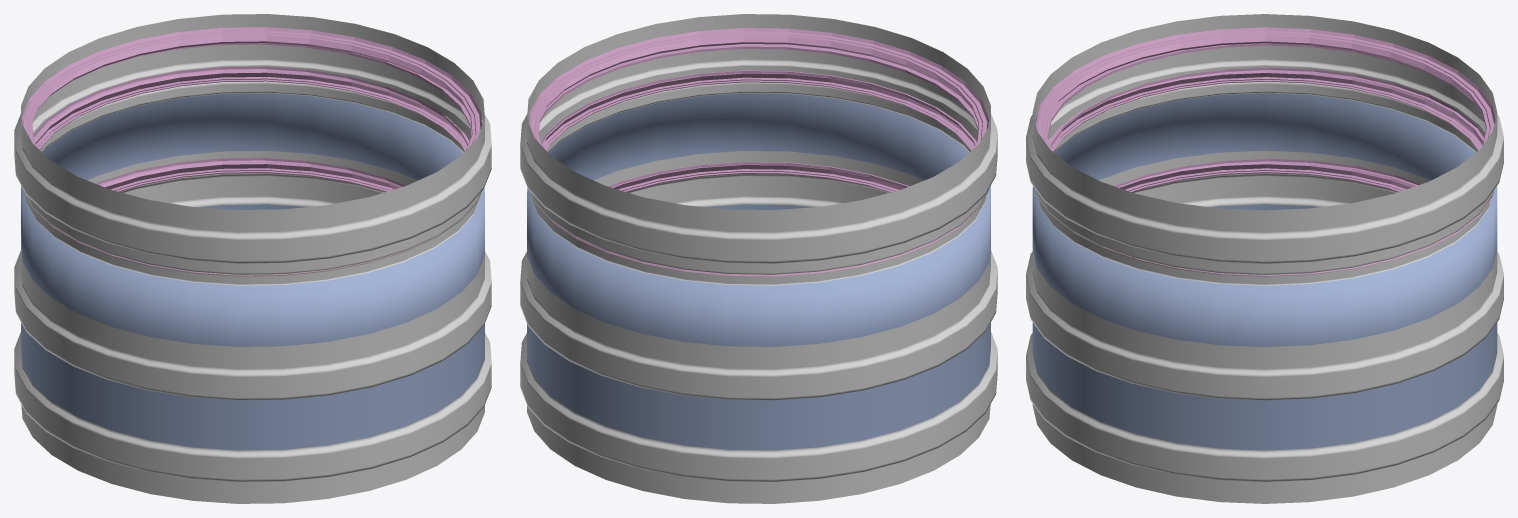
Rendered from Observatory_Interior_Wall.fbx.
3 renders of one model, left to right at view 1: azimuth 30°, elevation 25°; view 2: azimuth 150°, elevation 25°; view 3: azimuth 270°, elevation 25°, orthographic.
Visible parts, largest first — view 1: Circle1; view 2: Circle1; view 3: Circle1.
Part boxes in pixels (bbox=[...]): Circle1: bbox=[14, 14, 491, 503]; Circle1: bbox=[520, 14, 997, 503]; Circle1: bbox=[1026, 14, 1503, 503].
Bounding box in the file's own units: 6082 × 4124 × 6082.
